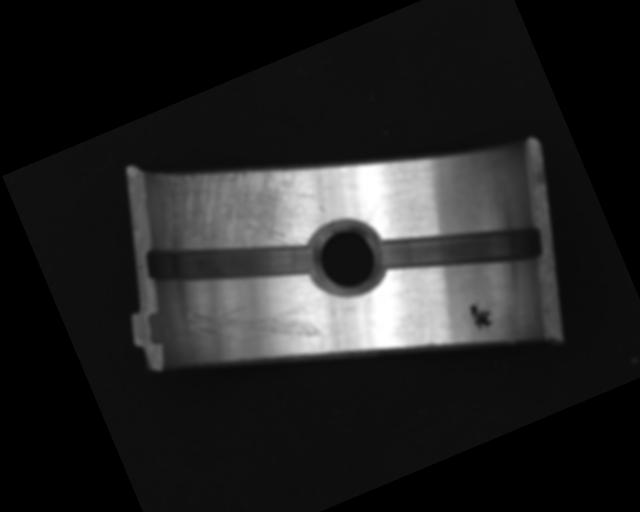blot: (463, 294, 500, 335)
gap: (139, 190, 322, 331), (374, 186, 549, 316)
hole: (305, 216, 392, 304)
nick: (186, 269, 322, 379)
scratch: (140, 119, 333, 297)
